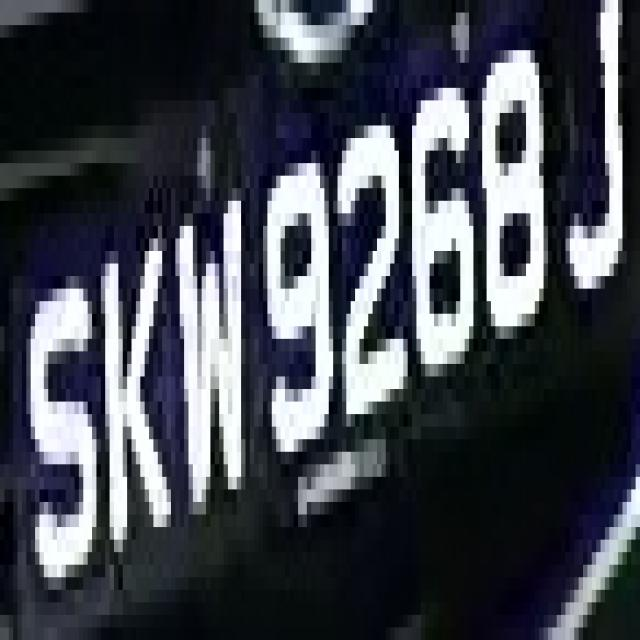2: (333, 50, 408, 414)
6: (399, 50, 473, 402)
8: (469, 0, 552, 389)
9: (263, 150, 342, 490)
J: (565, 13, 640, 326)
K: (96, 176, 166, 564)
S: (18, 238, 105, 602)
W: (171, 151, 250, 527)
